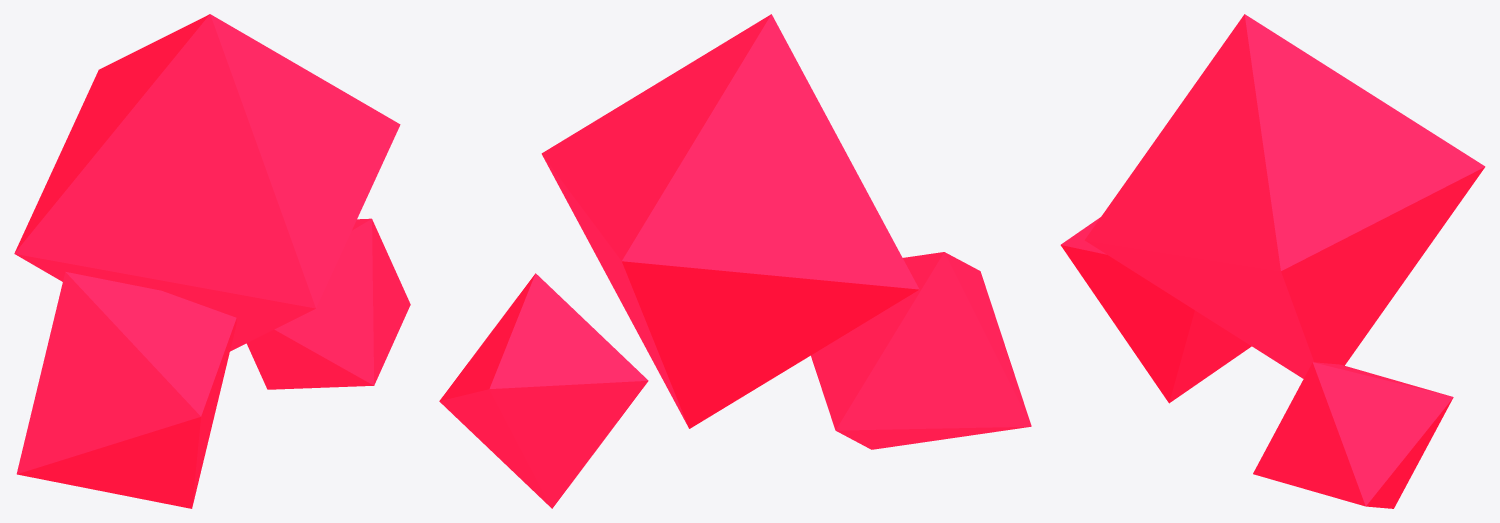
Rendered from blood_crystal_cluster.glb.
3 renders of one model, left to right at view 1: azimuth 30°, elevation 25°; view 2: azimuth 150°, elevation 25°; view 3: azimuth 270°, elevation 25°, orthographic. The views are drawn at different scales.
Bounding box in the file's own units: 1.16 × 1.05 × 0.935.
